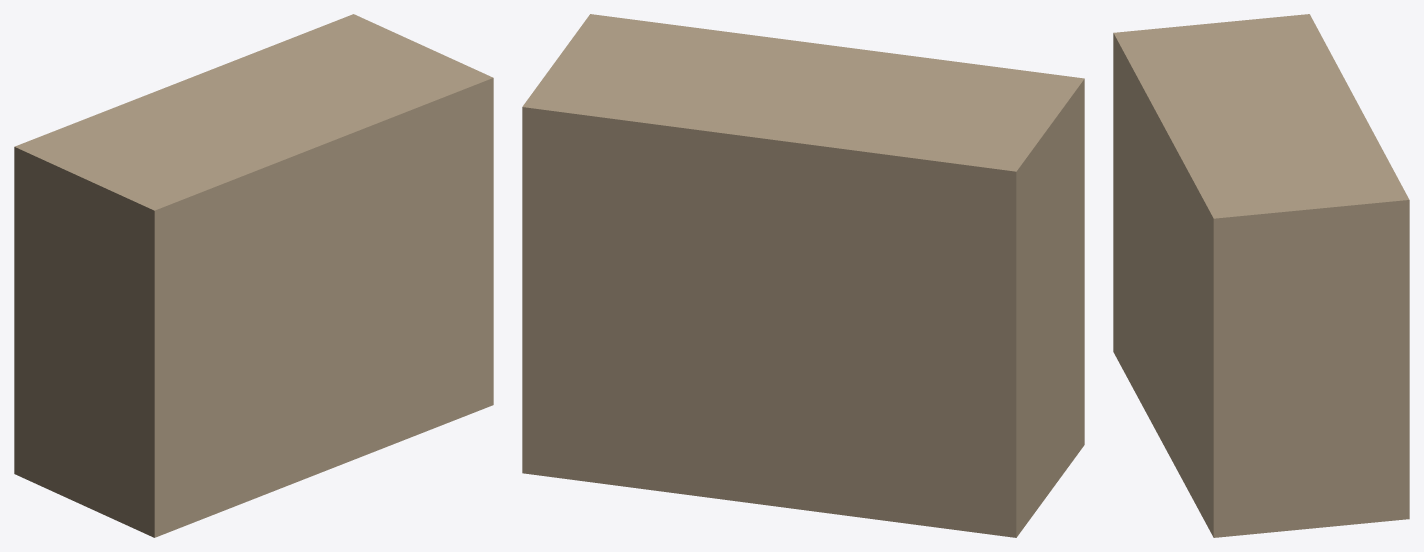
File: bld_107639251.dae
3 renders of one model, left to right at view 1: azimuth 30°, elevation 25°; view 2: azimuth 150°, elevation 25°; view 3: azimuth 270°, elevation 25°, orthographic. The views are drawn at different scales.
Parts seen in each view (by area): view 1: bld_107639251; view 2: bld_107639251; view 3: bld_107639251.
Part boxes in pixels (left/top/right/bottom): bld_107639251: left=14, top=14, right=493, bottom=537; bld_107639251: left=522, top=14, right=1084, bottom=537; bld_107639251: left=1113, top=14, right=1409, bottom=537.
Bounding box in the file's own units: 11 × 6.72 × 8.
